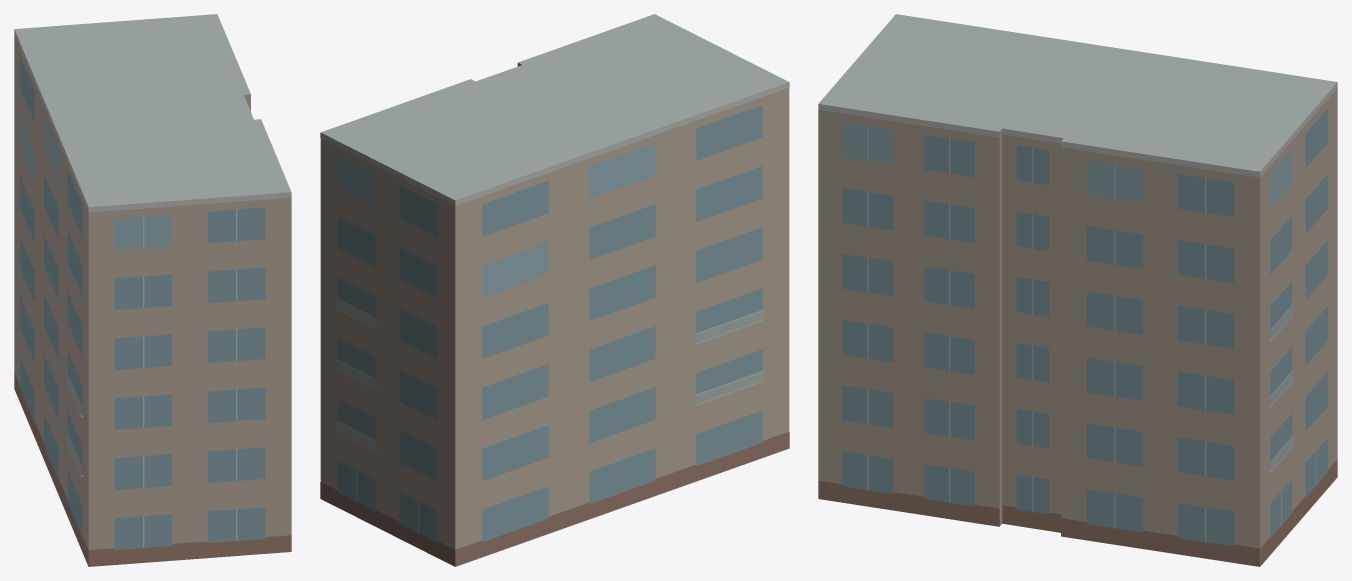
The model's file is survey-upis-32923772.glb.
3 renders of one model, left to right at view 1: azimuth 30°, elevation 25°; view 2: azimuth 150°, elevation 25°; view 3: azimuth 270°, elevation 25°, orthographic. The views are drawn at different scales.
Parts seen in each view (by area): view 1: survey-upis-32923772.tmp; view 2: survey-upis-32923772.tmp; view 3: survey-upis-32923772.tmp.
Boxes of the visible parts, bbox=[...] form: survey-upis-32923772.tmp: bbox=[14, 14, 291, 566]; survey-upis-32923772.tmp: bbox=[320, 14, 789, 566]; survey-upis-32923772.tmp: bbox=[818, 14, 1337, 566].
Bounding box in the file's own units: 13.97 × 16.3 × 19.43.
